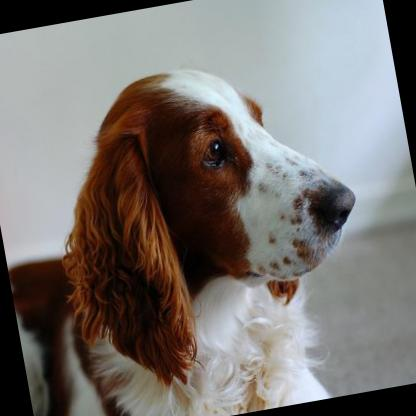Welsh_springer_spaniel: (0, 37, 390, 416)
